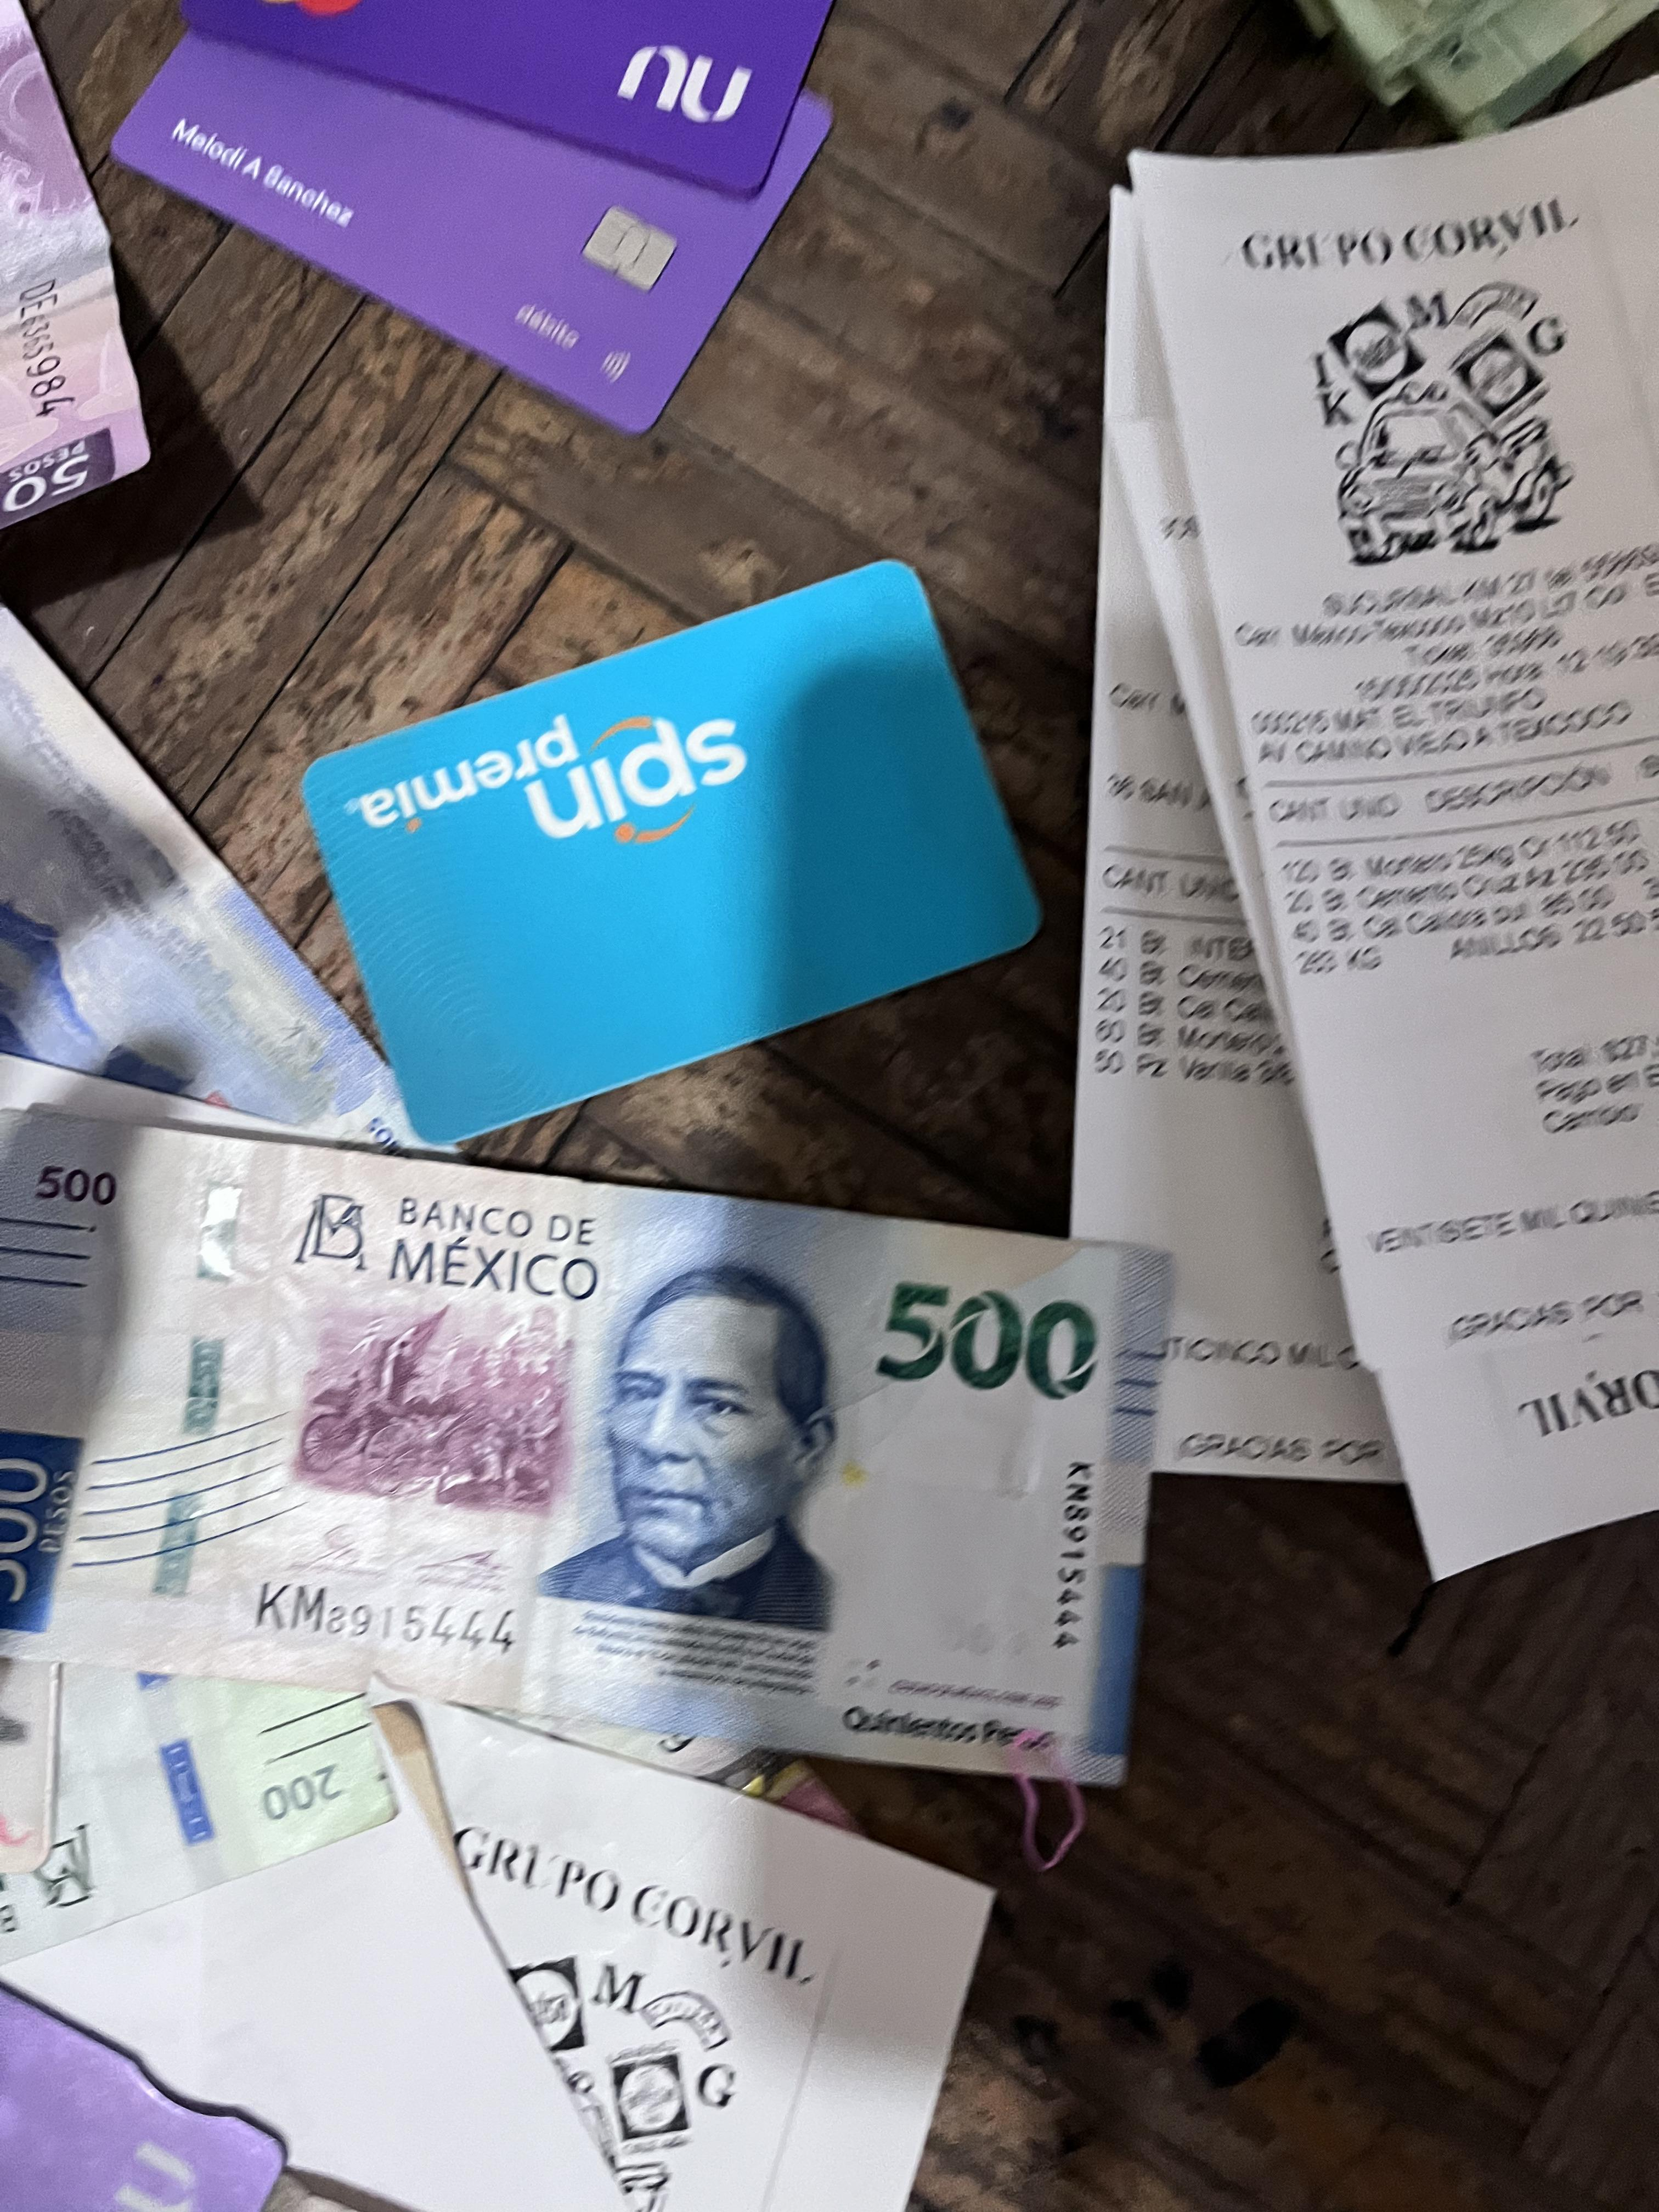200: (0, 1662, 425, 1966), (1239, 0, 1659, 164)
50: (0, 0, 183, 557)
500 nuevo: (0, 1078, 1209, 1810), (0, 587, 516, 1204)
